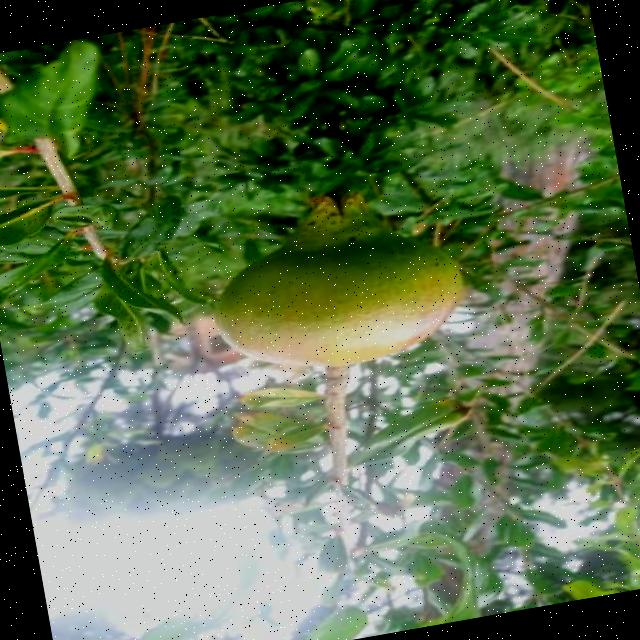Unripe: (197, 176, 478, 387)
